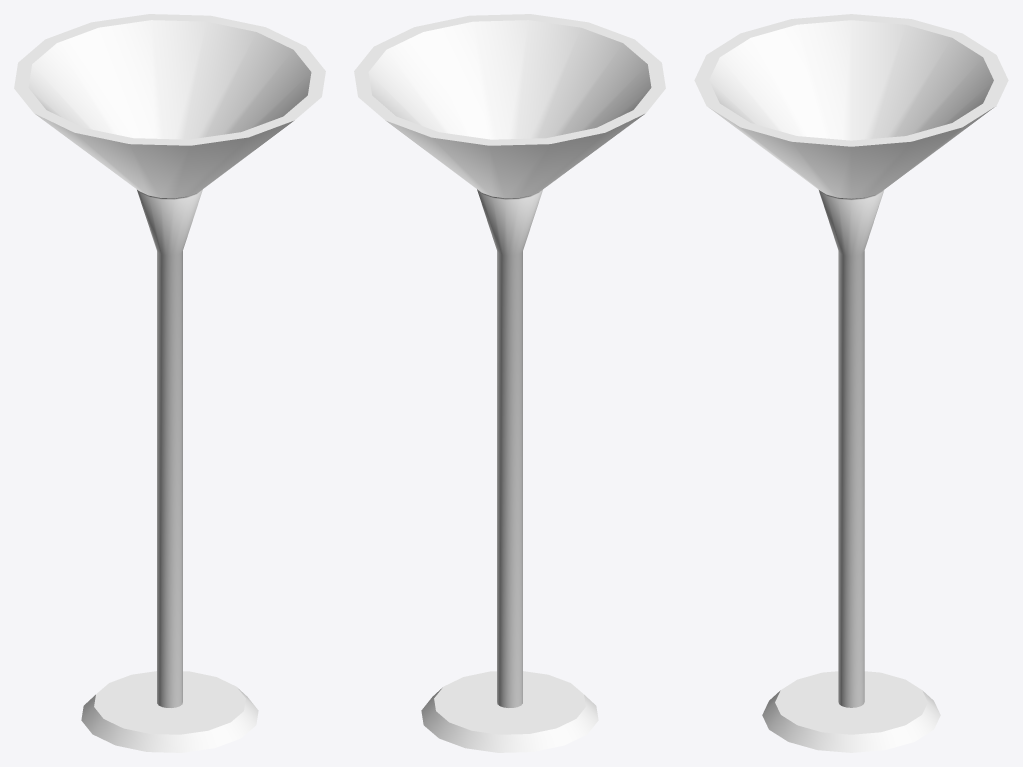
Rendered from SM_Lamp.fbx.
The picture shows the model from 3 angles, left to right: view 1: azimuth 30°, elevation 25°; view 2: azimuth 150°, elevation 25°; view 3: azimuth 270°, elevation 25°; orthographic projection.
Parts seen in each view (by area): view 1: Lamp; view 2: Lamp; view 3: Lamp.
Boxes of the visible parts, x1=… form: Lamp: x1=14, y1=14, x2=325, y2=752; Lamp: x1=354, y1=14, x2=665, y2=752; Lamp: x1=694, y1=14, x2=1008, y2=752.
Bounding box in the file's own units: 164 × 365 × 164.
